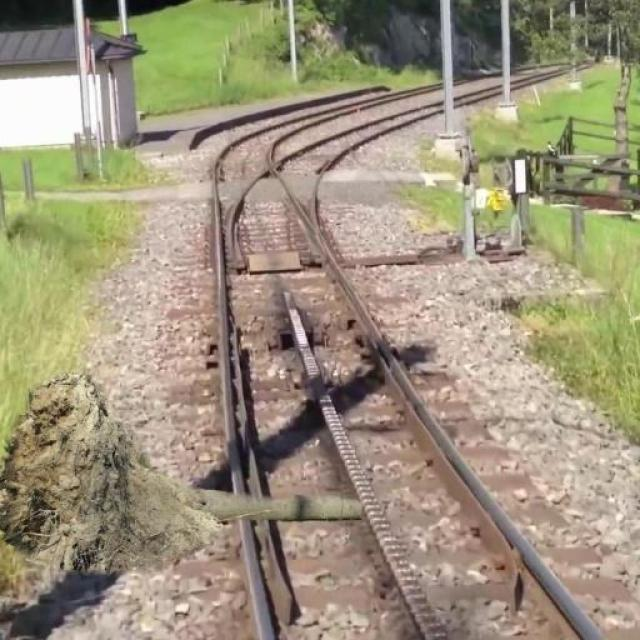Branches: (162, 466, 373, 534)
